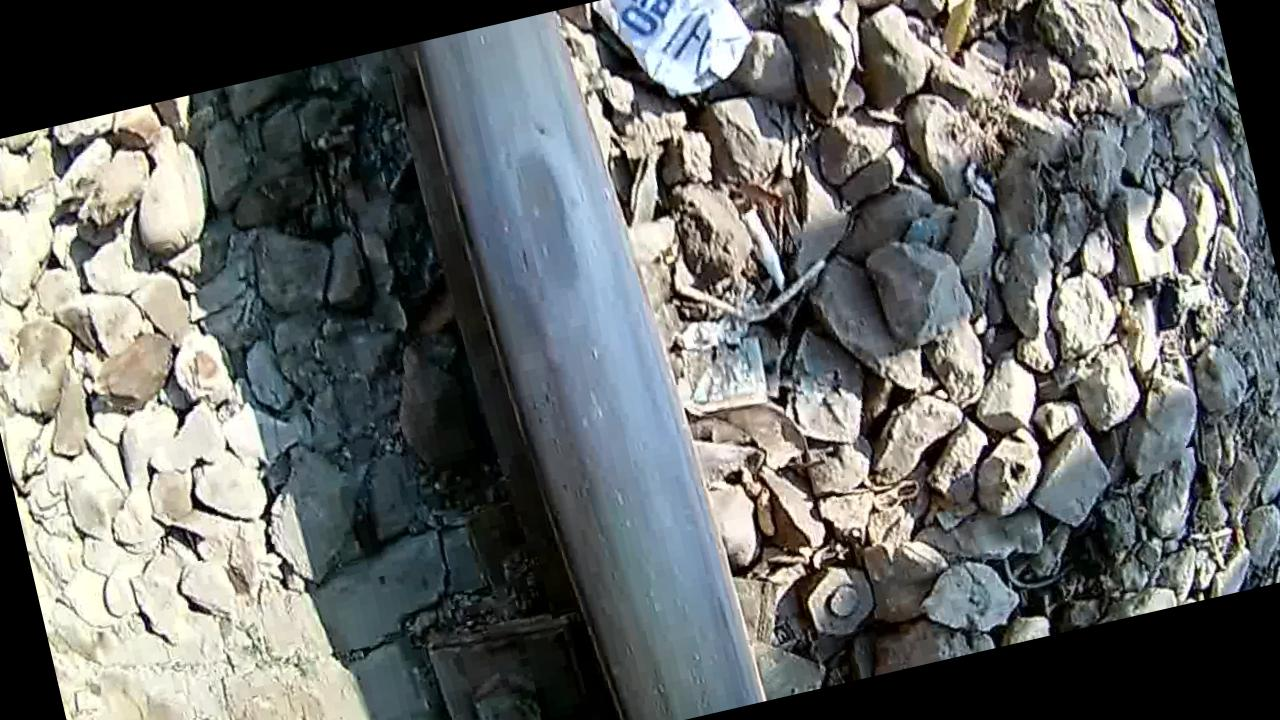bolt_missing: (420, 13, 747, 720)
